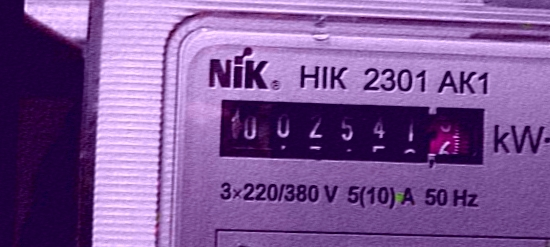0: (271, 107, 292, 141), (240, 112, 259, 141)
1: (399, 110, 417, 144)
2: (302, 108, 325, 143)
4: (368, 110, 387, 142)
5: (336, 111, 354, 144)
6: (434, 136, 451, 158)
screen: (202, 81, 506, 185)
